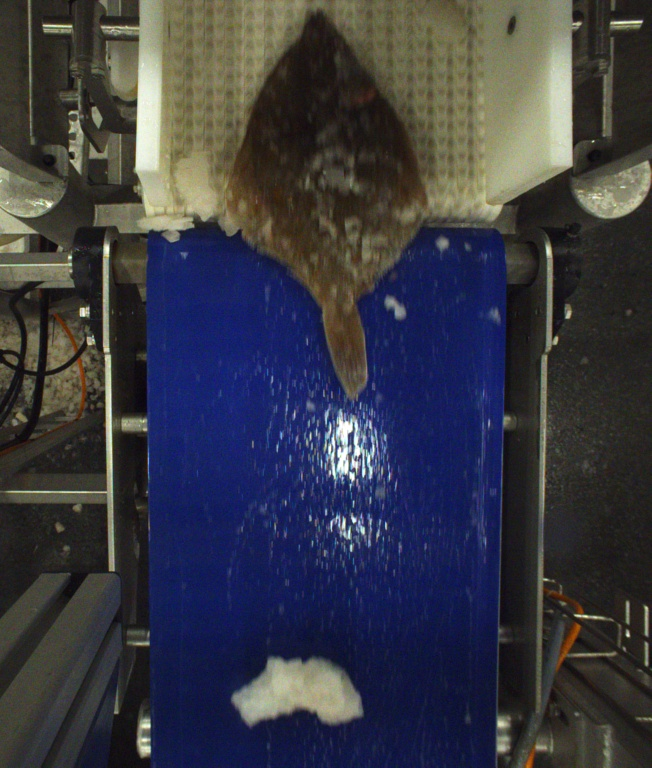PLE: (223, 7, 429, 397)
